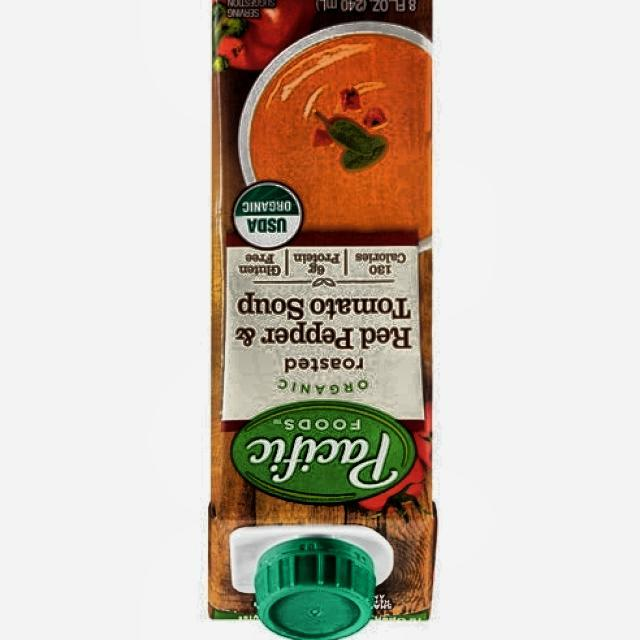cardboard: (208, 0, 437, 626)
